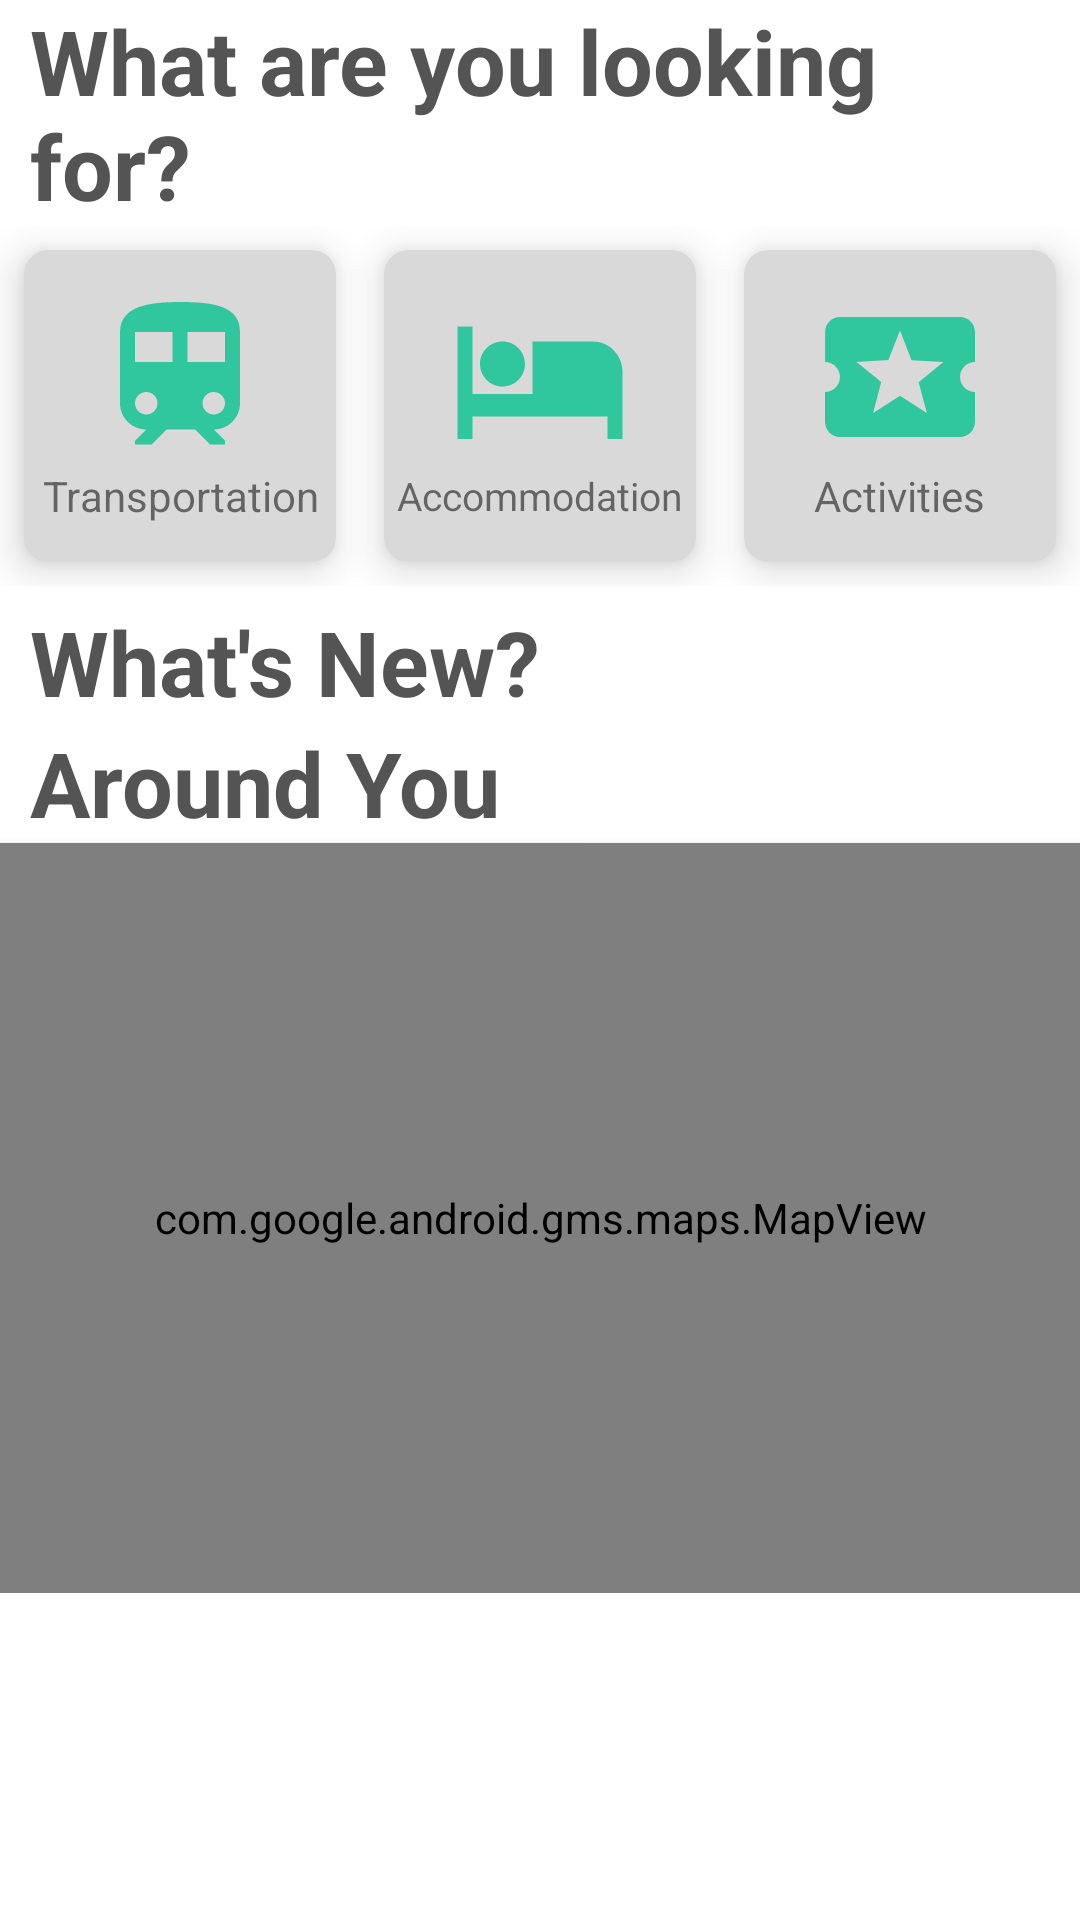

Icon bounding boxes for this 1080 x 1920 phone screenshot, format bbox(x1, y1, x2, y2):
train: bbox(120, 302, 240, 445)
